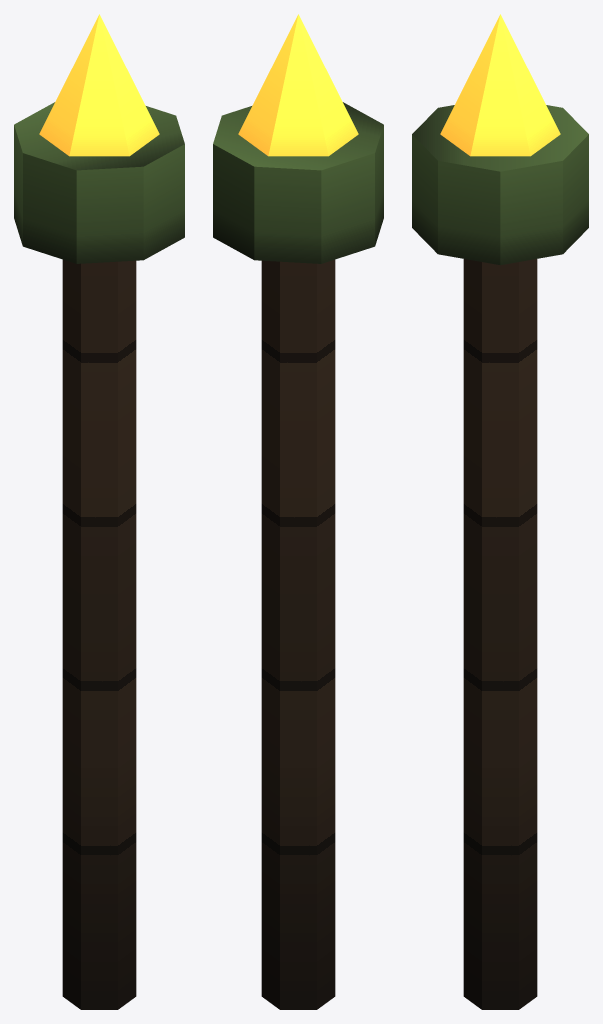
File: torch.gltf
3 renders of one model, left to right at view 1: azimuth 30°, elevation 25°; view 2: azimuth 150°, elevation 25°; view 3: azimuth 270°, elevation 25°, orthographic.
Visible parts, largest first — view 1: torch; view 2: torch; view 3: torch.
Boxes of the visible parts, bbox=[...] form: torch: bbox=[14, 14, 184, 1009]; torch: bbox=[213, 14, 383, 1009]; torch: bbox=[412, 14, 588, 1009].
Size of the model in its own units: 0.24 by 1.47 by 0.24.
1 material, 1 textured.
